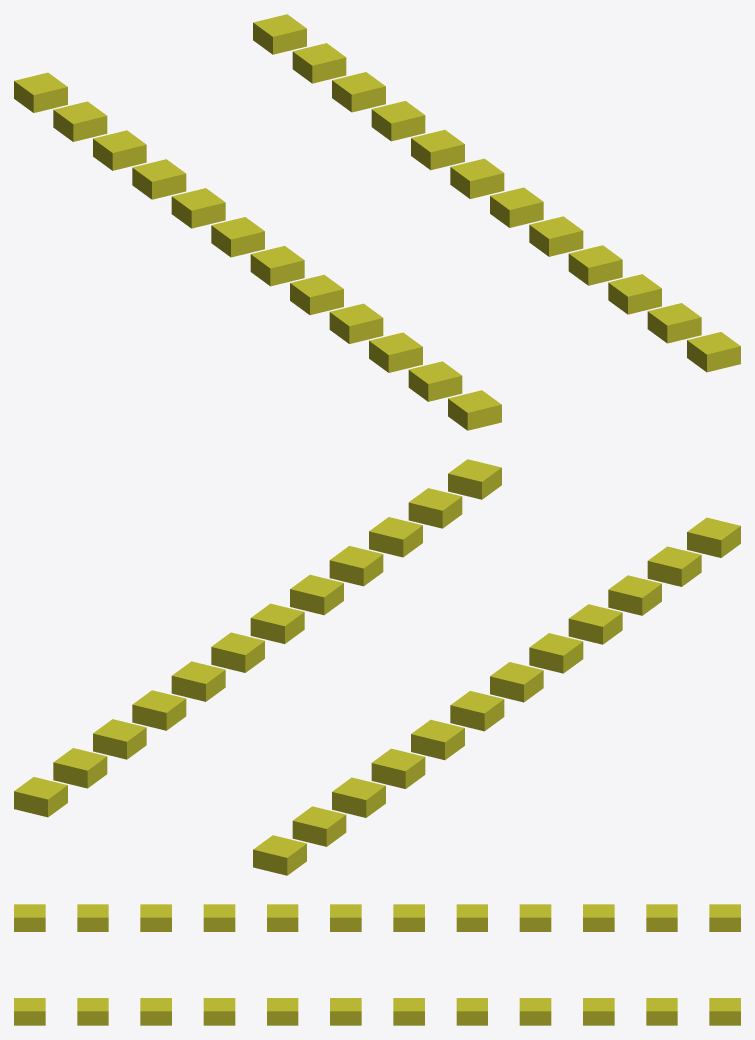
The model's file is obj_crosswalk.obj.
The picture shows the model from 3 angles, top to bottom: view 1: azimuth 30°, elevation 25°; view 2: azimuth 150°, elevation 25°; view 3: azimuth 270°, elevation 25°; orthographic projection. The views are drawn at different scales.
Size of the model in its own units: 1.6 by 0.1 by 4.6.
Materials: 1 (1 with a texture image).
